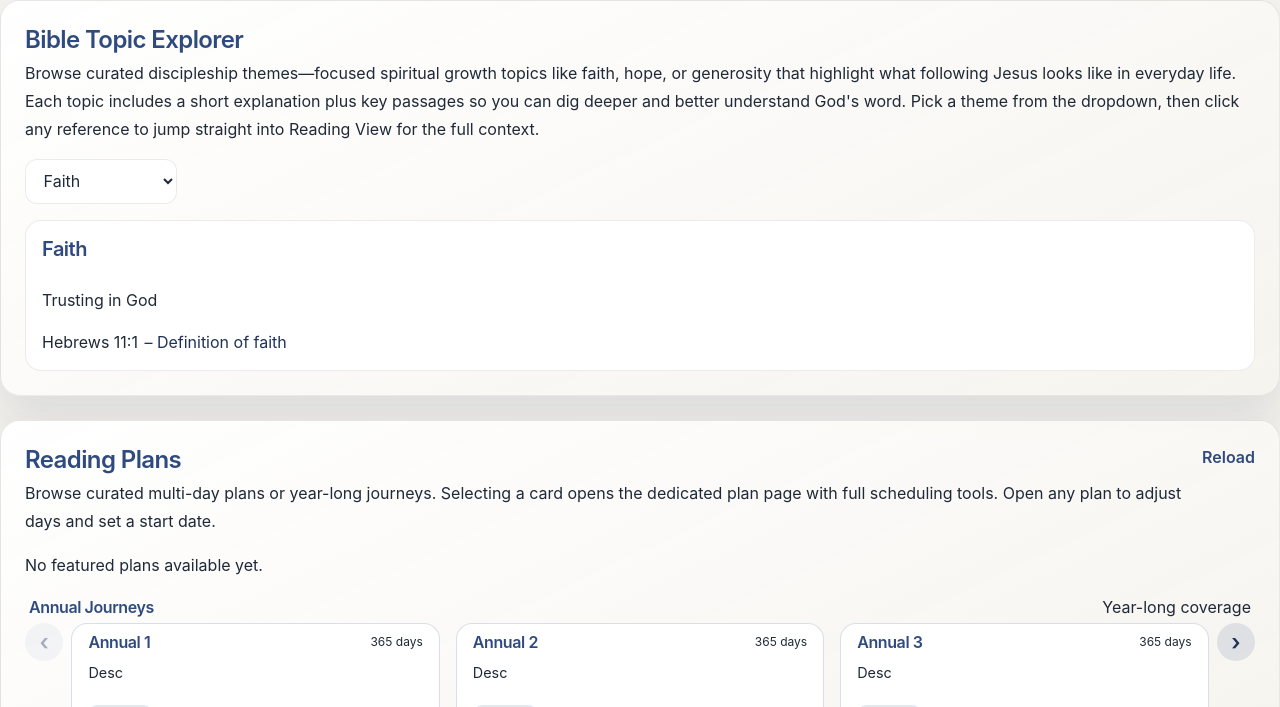
Scenario: StudyResources › Carousel Navigation › handles annual carousel navigation
This screenshot has width=1280, height=707.
Expected: the text "Annual 4" is not shown
Step 1. Click the button with class "carousel-arrow" showing "›" → (1236, 642), box [1217, 623, 1255, 661]
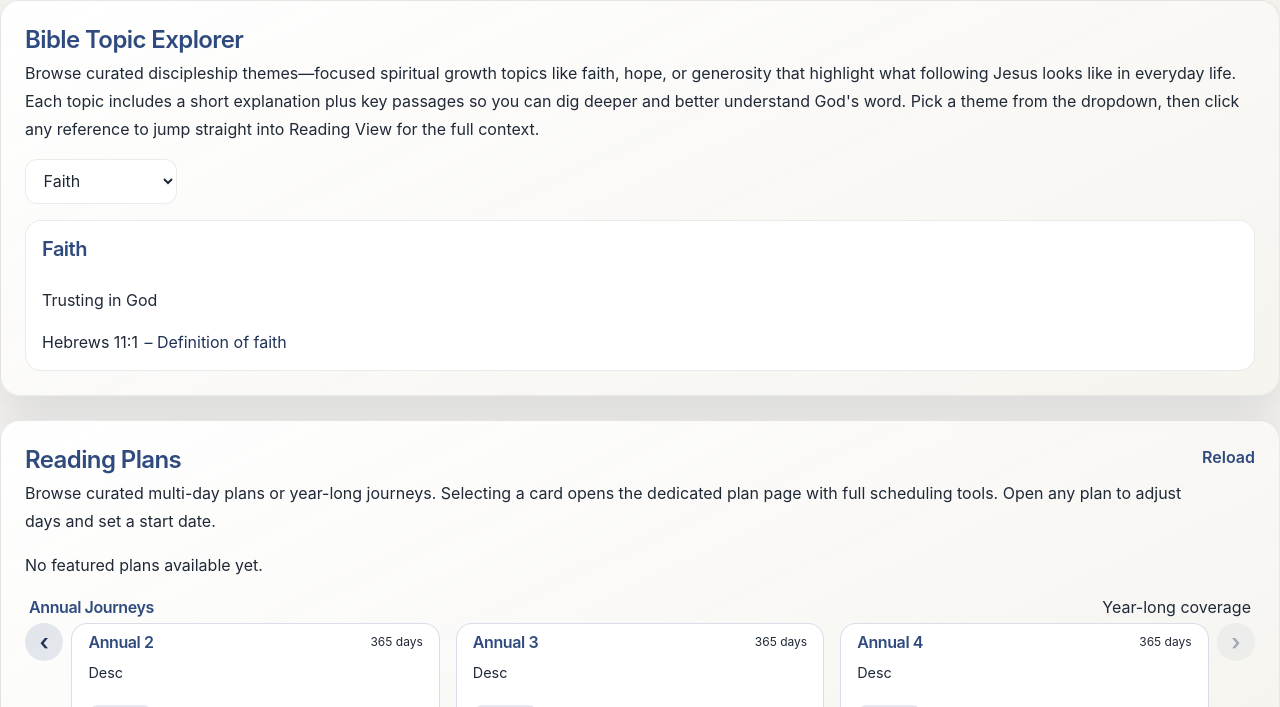
Expected: the text "Annual 4" is shown, [857, 632, 923, 652]
